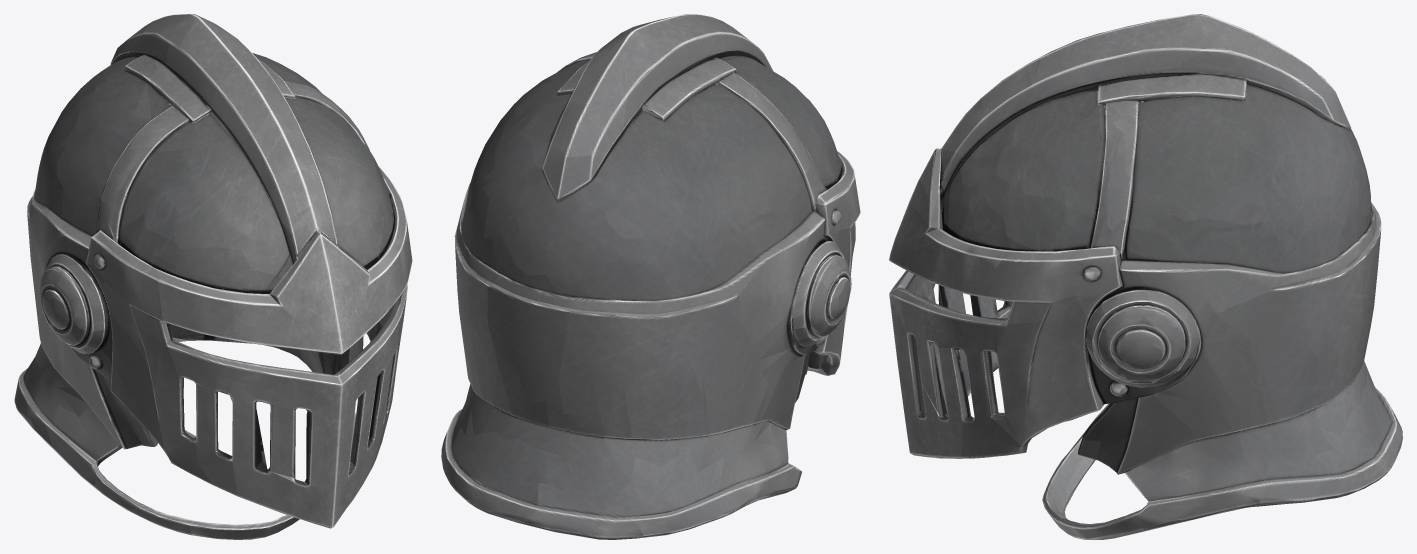
Rendered from Meshy_AI_steel_helmet_prop_10k_1105014257_texture.glb.
3 views of the same model, side by side, from view 1: azimuth 30°, elevation 25°; view 2: azimuth 150°, elevation 25°; view 3: azimuth 270°, elevation 25° (orthographic). The views are drawn at different scales.
Parts seen in each view (by area): view 1: output_unwrapped; view 2: output_unwrapped; view 3: output_unwrapped.
Boxes of the visible parts, left/top/right/bottom form: output_unwrapped: left=14, top=14, right=412, bottom=539; output_unwrapped: left=441, top=14, right=860, bottom=539; output_unwrapped: left=889, top=14, right=1402, bottom=539.
Bounding box in the file's own units: 1.46 × 1.9 × 1.77.
1 material, 1 textured.
